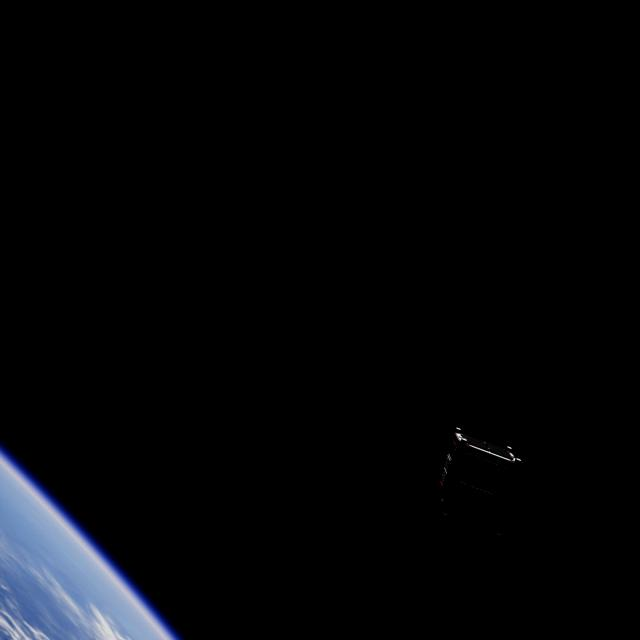satellite: (430, 419, 535, 539)
